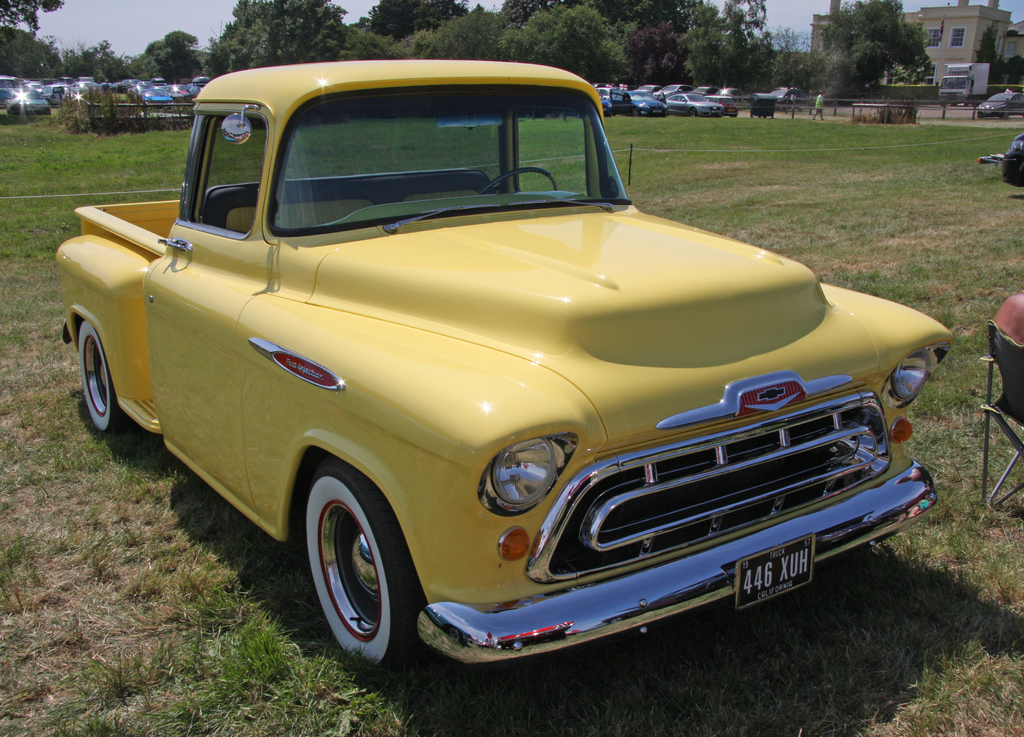car: (39, 30, 972, 699), (929, 48, 996, 118), (970, 80, 1024, 136), (661, 87, 732, 125), (623, 84, 675, 123)
